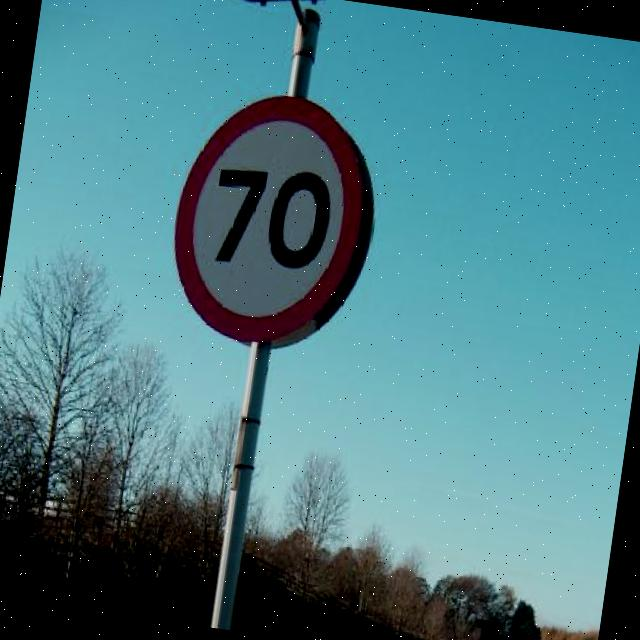Ograniczenie predkosci do 70: (162, 90, 380, 348)
